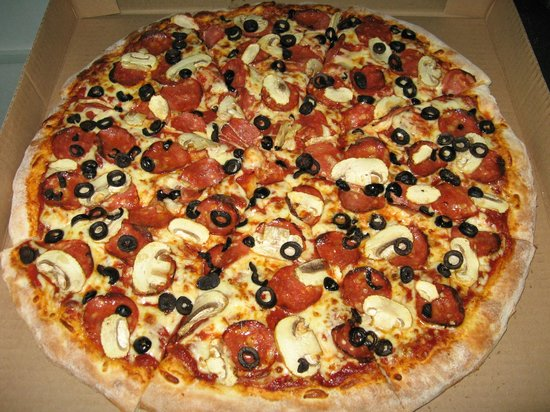Olives: (292, 156, 318, 174), (141, 117, 164, 137), (212, 208, 232, 227), (183, 200, 200, 220), (158, 292, 174, 313), (258, 286, 275, 305), (344, 226, 364, 242), (396, 77, 412, 97), (196, 274, 220, 287), (387, 182, 400, 206), (133, 337, 150, 355), (43, 230, 61, 247), (90, 224, 107, 242), (80, 289, 98, 306), (390, 125, 408, 142), (397, 263, 414, 280), (74, 182, 91, 199), (393, 238, 411, 254), (112, 150, 130, 166), (441, 170, 460, 185), (478, 119, 497, 134), (84, 160, 99, 179), (140, 83, 155, 102), (282, 244, 302, 258), (241, 348, 255, 368), (363, 267, 376, 288), (103, 208, 124, 221), (335, 15, 356, 28), (471, 141, 489, 156), (313, 71, 331, 86), (443, 253, 462, 267), (106, 170, 125, 184), (19, 245, 35, 261), (364, 330, 379, 346), (43, 187, 63, 199), (242, 19, 258, 34), (177, 297, 191, 314), (102, 267, 116, 284), (300, 97, 314, 114), (158, 188, 181, 198), (355, 93, 374, 105), (350, 328, 364, 344), (378, 338, 391, 355), (389, 40, 406, 53), (70, 214, 90, 225), (453, 138, 468, 152), (167, 51, 182, 65), (422, 105, 437, 119), (396, 171, 415, 182), (77, 119, 96, 130), (225, 158, 238, 174), (389, 53, 402, 69), (461, 223, 479, 234), (364, 184, 382, 195), (348, 308, 361, 323), (245, 195, 258, 210), (178, 67, 193, 80), (253, 115, 268, 128), (271, 19, 286, 32), (225, 28, 242, 39), (370, 216, 384, 229), (91, 206, 103, 221), (439, 149, 454, 161), (119, 90, 134, 102), (438, 217, 454, 228), (254, 187, 270, 198), (211, 124, 221, 141), (252, 273, 265, 286), (423, 303, 435, 317), (333, 213, 347, 225), (344, 237, 359, 248), (436, 265, 452, 275), (224, 70, 234, 86), (97, 116, 109, 129), (90, 86, 103, 98), (280, 34, 294, 45), (354, 72, 365, 86), (296, 358, 306, 373), (336, 180, 351, 190), (468, 187, 484, 196), (117, 305, 130, 316), (143, 161, 156, 172), (119, 236, 133, 246), (261, 137, 271, 151), (173, 40, 188, 49), (439, 133, 452, 143), (132, 145, 141, 159), (173, 31, 187, 40), (273, 60, 284, 71), (402, 29, 413, 40), (59, 171, 69, 183), (72, 145, 84, 155), (314, 34, 326, 44), (222, 235, 229, 251), (242, 236, 253, 246), (410, 96, 421, 106), (228, 50, 237, 61), (389, 151, 397, 163), (325, 280, 334, 290), (238, 218, 248, 227), (233, 148, 242, 158), (326, 30, 335, 40), (420, 206, 429, 215), (282, 48, 291, 57), (68, 115, 78, 123), (374, 44, 384, 52), (209, 265, 219, 272), (200, 252, 209, 259), (115, 105, 123, 112), (389, 26, 397, 33), (69, 135, 82, 139), (250, 261, 255, 271), (164, 141, 170, 149)
Pepperoni: (343, 135, 389, 210), (223, 322, 271, 372), (35, 241, 86, 288), (85, 293, 132, 344), (268, 264, 320, 309), (127, 187, 194, 219), (133, 250, 179, 296), (340, 270, 388, 310), (418, 284, 460, 326), (96, 179, 139, 216), (432, 180, 474, 217), (46, 173, 90, 208), (386, 231, 426, 269), (306, 78, 351, 111), (355, 65, 397, 100), (157, 82, 200, 116), (317, 233, 361, 266), (196, 197, 234, 235), (257, 217, 305, 247), (304, 141, 340, 181), (138, 142, 186, 172), (332, 325, 375, 358), (224, 118, 263, 153), (439, 109, 481, 141), (284, 46, 327, 77), (359, 16, 397, 51), (290, 183, 324, 222), (109, 226, 148, 259), (50, 131, 99, 157), (98, 132, 137, 164), (461, 148, 500, 179), (110, 65, 161, 88), (260, 82, 308, 106), (189, 160, 222, 191), (341, 106, 380, 131), (287, 11, 332, 32), (220, 61, 251, 90), (393, 48, 425, 76), (173, 111, 206, 138), (138, 32, 174, 56), (201, 20, 238, 41), (469, 231, 498, 257), (441, 74, 477, 91)
Pizza: (2, 2, 536, 412)
